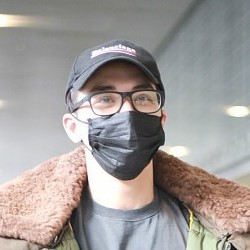mask: (75, 105, 167, 183)
